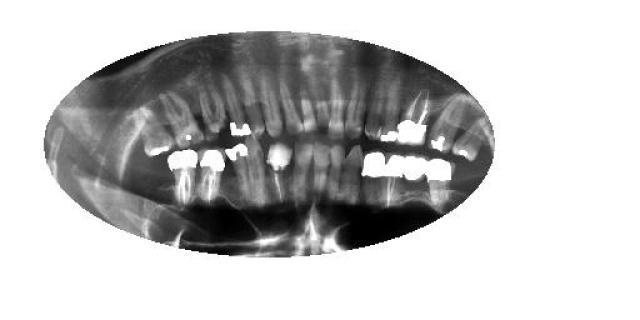Cavity: (200, 88, 230, 144)
Fillings: (426, 95, 465, 154), (133, 105, 175, 157), (222, 75, 252, 139), (225, 142, 251, 202), (379, 76, 400, 144), (427, 158, 452, 214), (454, 118, 485, 162), (362, 150, 386, 181), (404, 151, 425, 185)
Implant: (395, 88, 431, 146), (166, 149, 199, 209), (262, 142, 292, 202), (196, 146, 225, 208), (384, 150, 404, 209)
